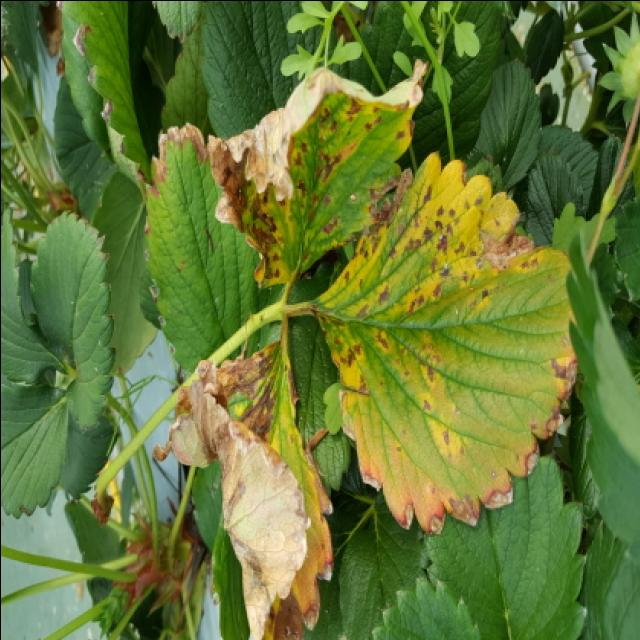Angular Leafspot: (305, 150, 579, 536), (151, 319, 337, 640), (206, 60, 425, 298), (145, 121, 284, 376)
